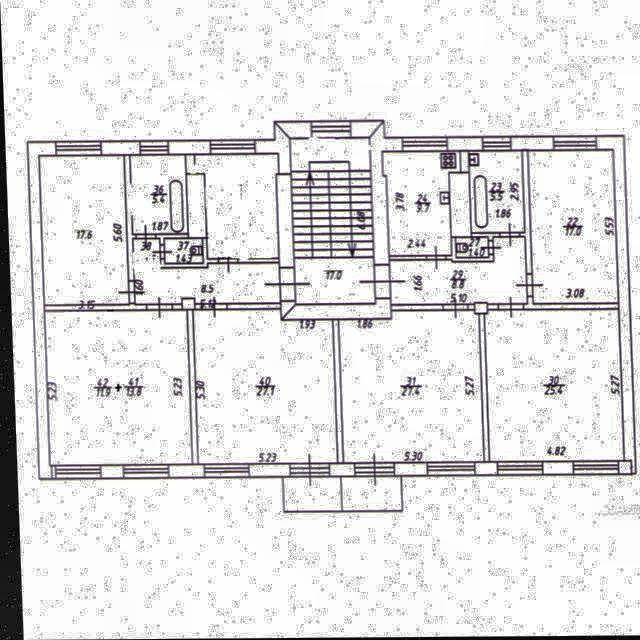room: (335, 308, 481, 467), (42, 307, 187, 467), (191, 309, 334, 464), (483, 307, 619, 464), (289, 136, 372, 305), (526, 149, 614, 305), (38, 153, 127, 305), (131, 237, 279, 304), (388, 237, 525, 304), (194, 154, 278, 258), (381, 152, 460, 256), (468, 149, 522, 234), (129, 155, 186, 235), (338, 476, 398, 511), (279, 477, 337, 512), (163, 238, 201, 263), (454, 236, 487, 258)
